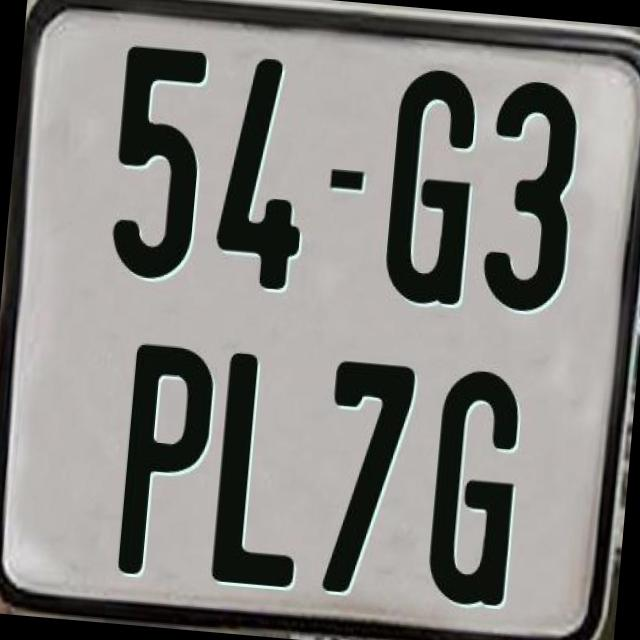3: (480, 78, 584, 316)
4: (208, 55, 313, 300)
5: (106, 42, 210, 286)
7: (315, 355, 418, 595)
G: (377, 67, 481, 316), (424, 364, 530, 606)
L: (210, 349, 318, 588)
P: (116, 343, 220, 589)
